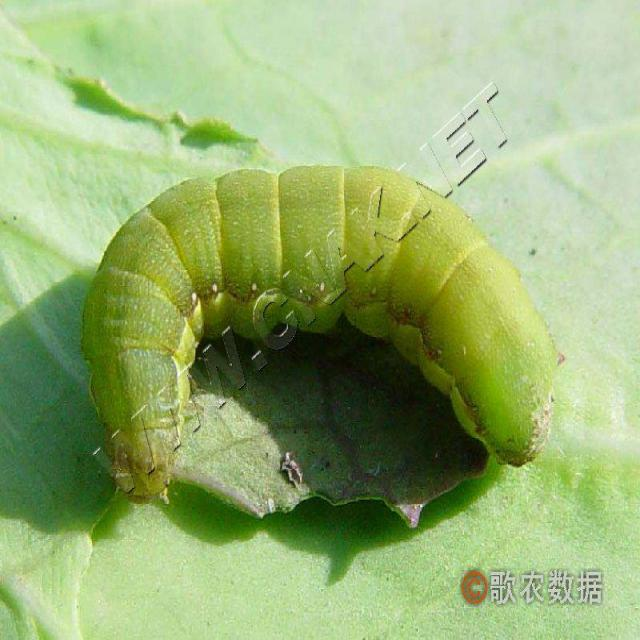BeetArmyWorm-Larva-: (71, 158, 563, 509)
